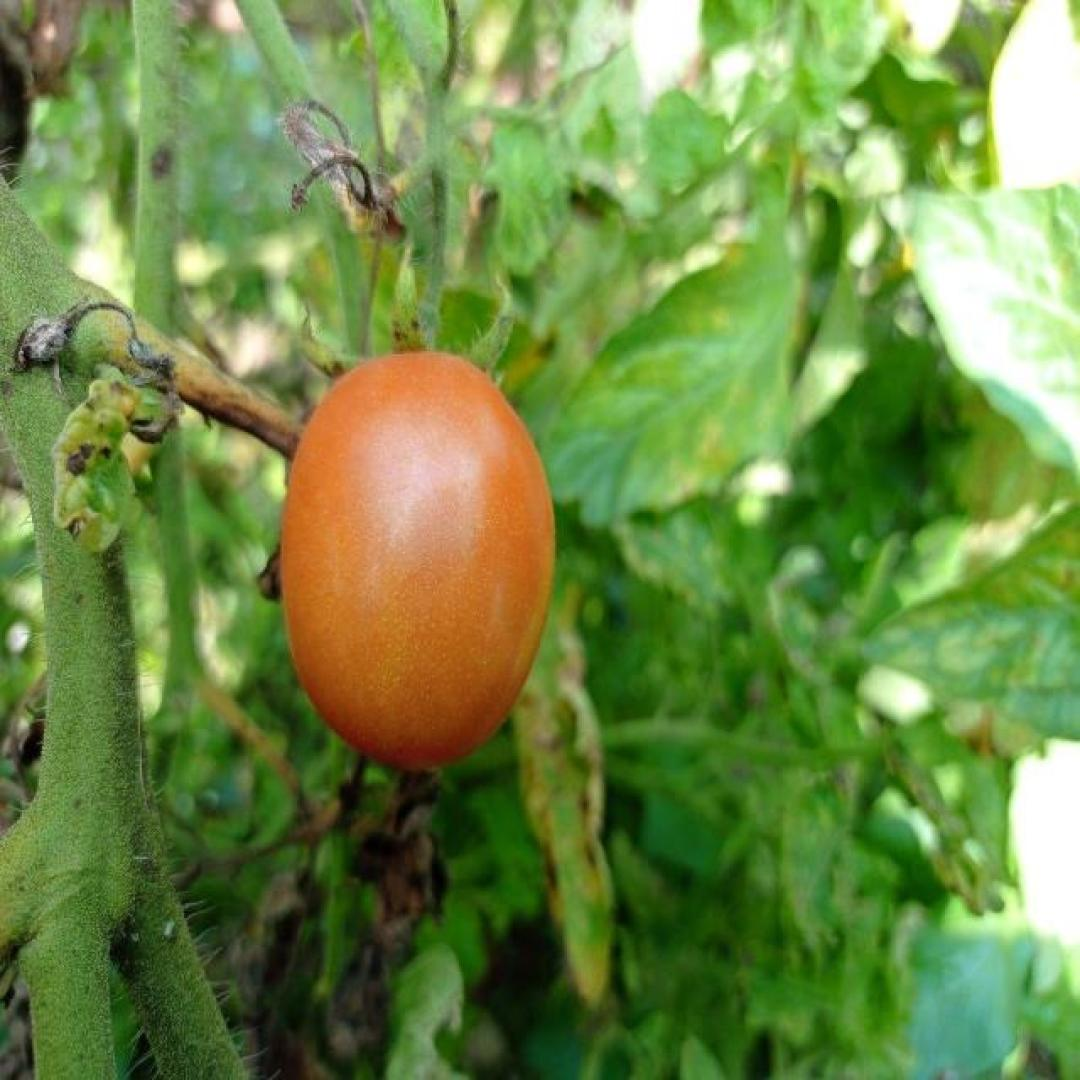setengah_matang: (278, 241, 557, 773)
